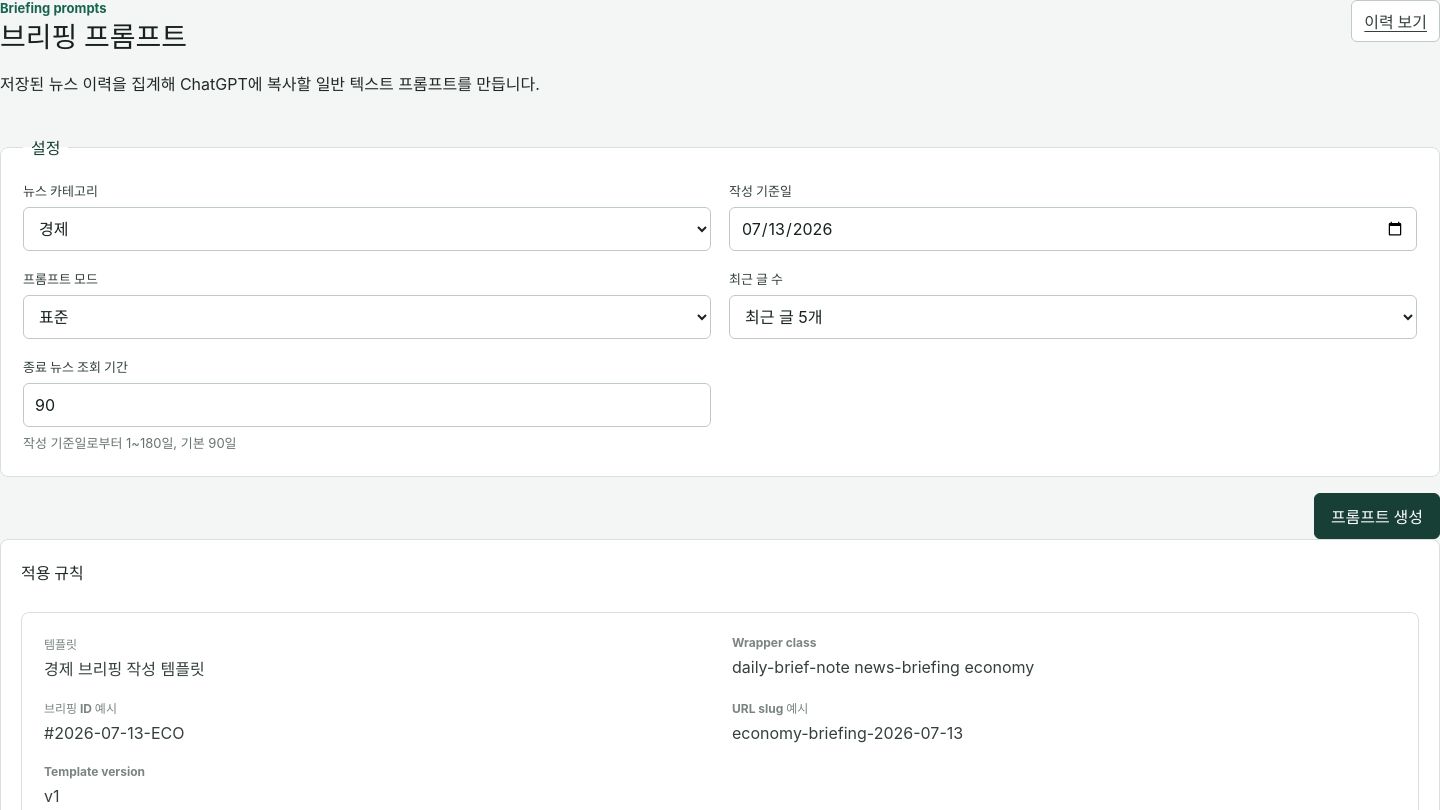
BriefingPromptsPage › disables save before generation and enables it after a valid preview
What coordinates should you click on to do the following:
click the button "프롬프트 생성"
I would click on:
 (1377, 516)
Its box is 1314,492 -> 1439,538.
(page scrolled)
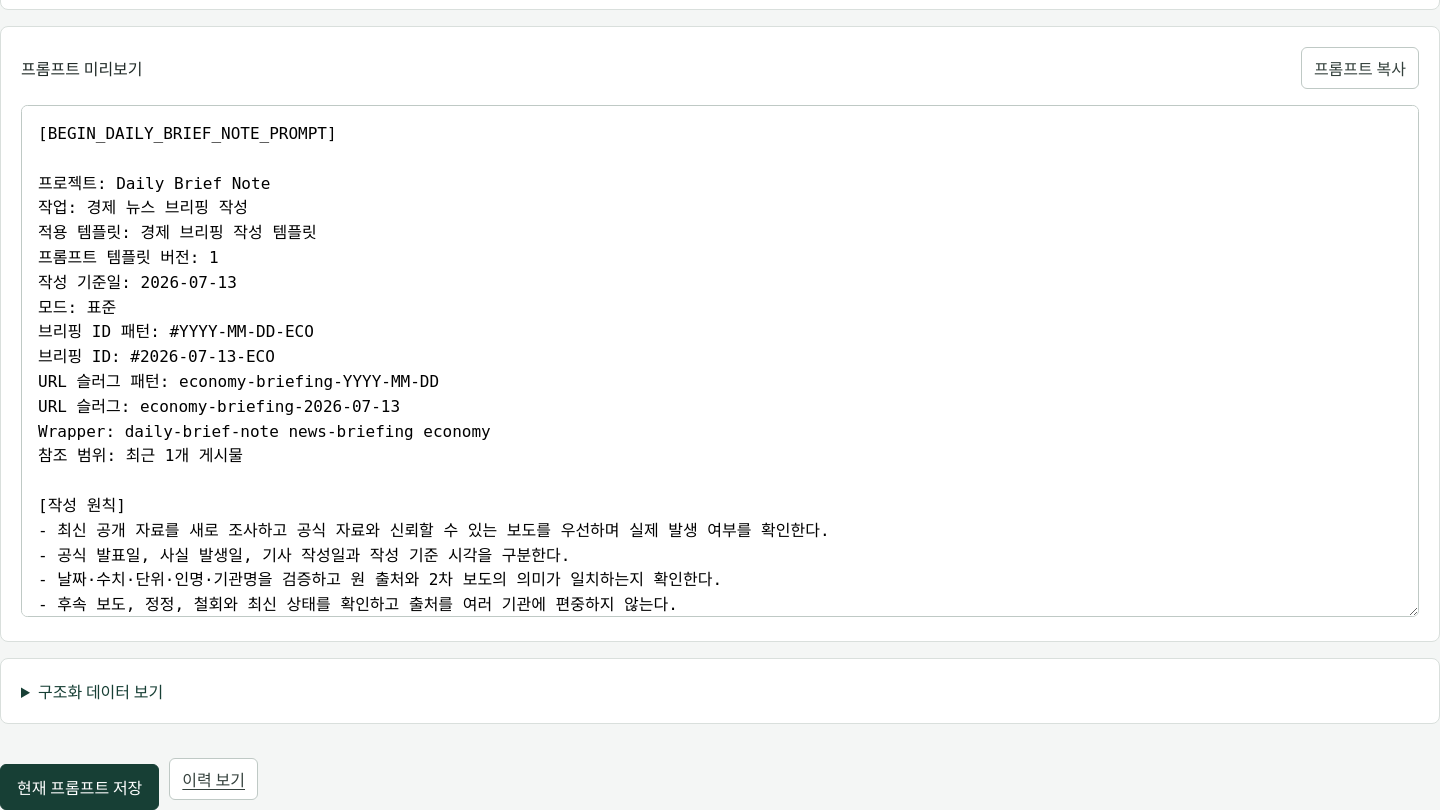
Check: the button "현재 프롬프트 저장" is enabled, box 0,764 -> 159,809
